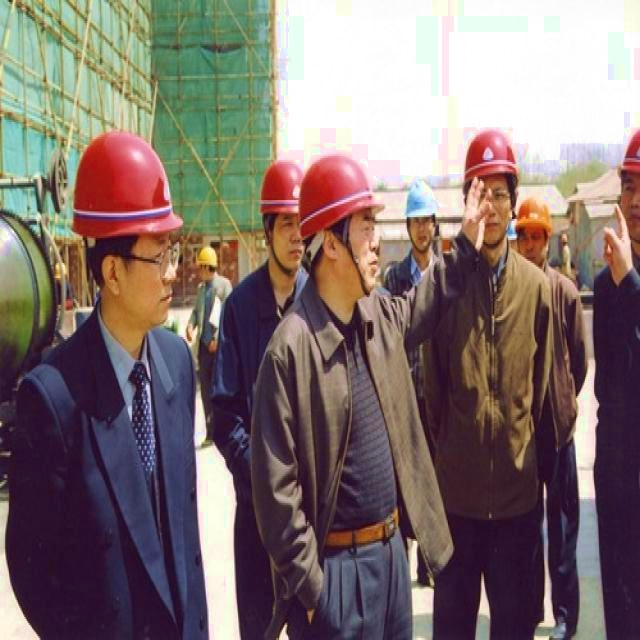Con_Casco: (78, 135, 181, 329), (299, 156, 382, 285)
Sin_Chaleco: (5, 332, 198, 626), (262, 289, 420, 568)
